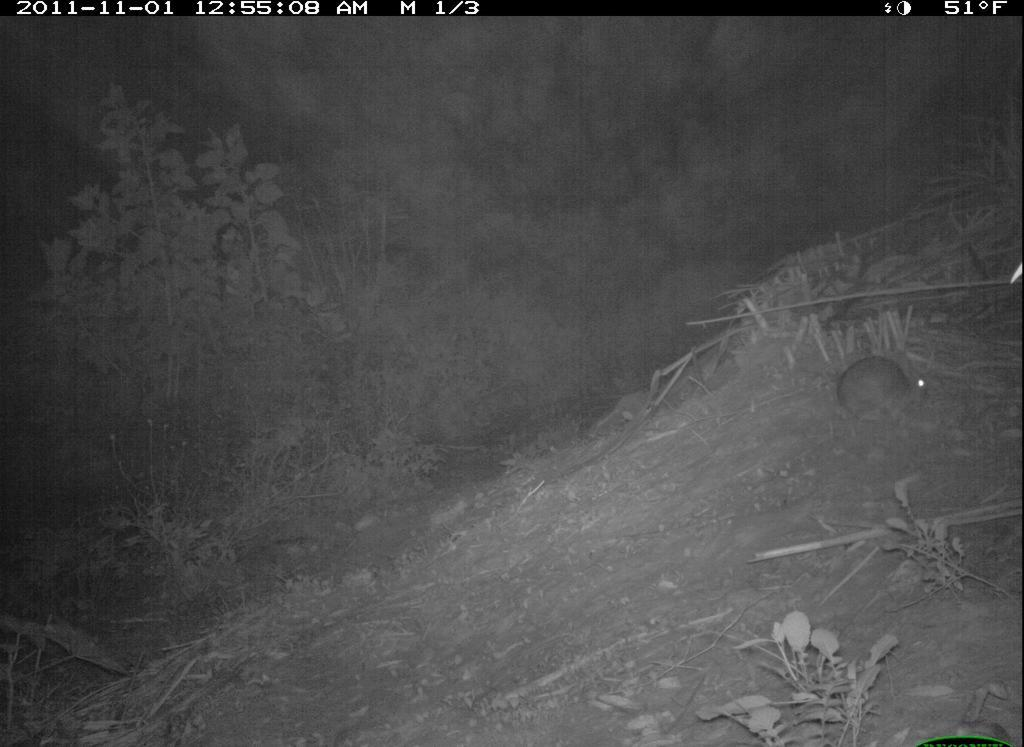rabbit: (833, 341, 939, 436)
